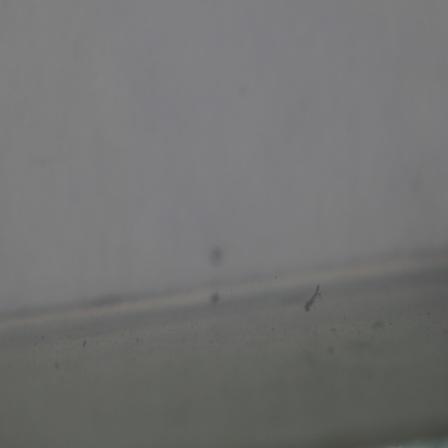Jentik-Nyamuk: (301, 279, 325, 317)
